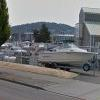Boat: (34, 37, 100, 69)
